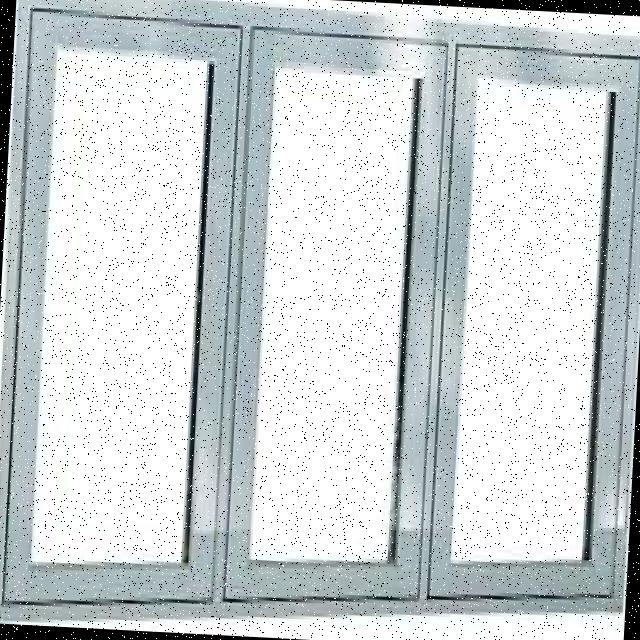Window: (0, 16, 640, 640)
